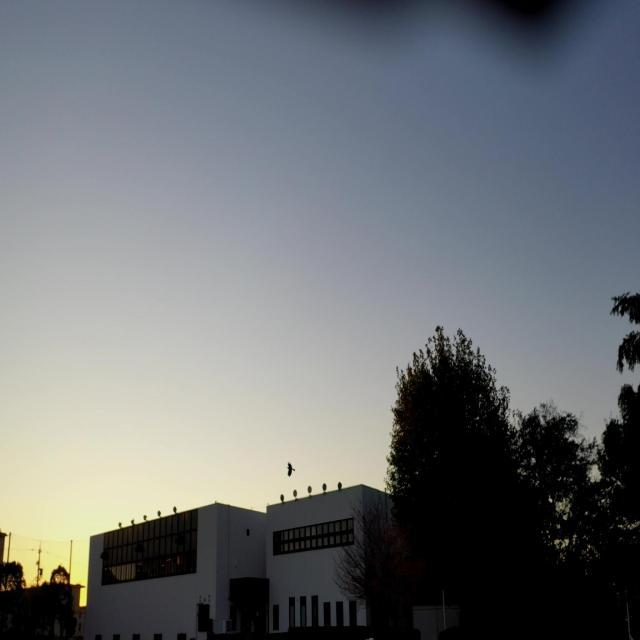Birds: (284, 451, 296, 470)
